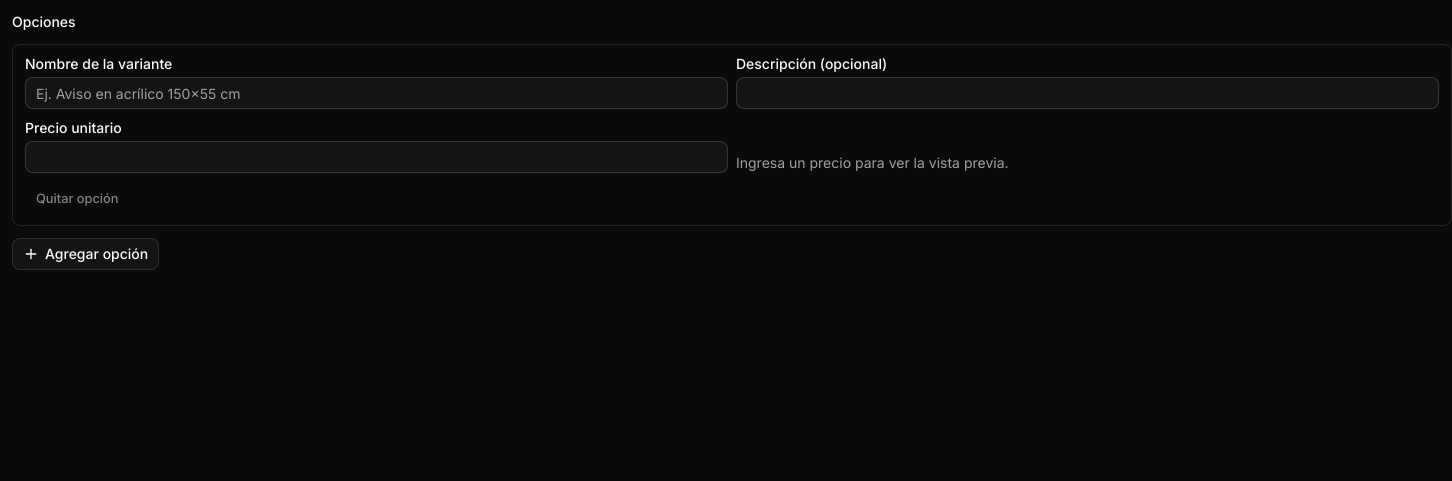
CatalogVariantFields › disables 'Quitar' when it is the only row, and enables it once a second row exists
expect the button "Quitar opción" is disabled: met, box [25,185,130,213]
Click the button "Agregar opción" at x=86, y=254, box [12,238,159,270]
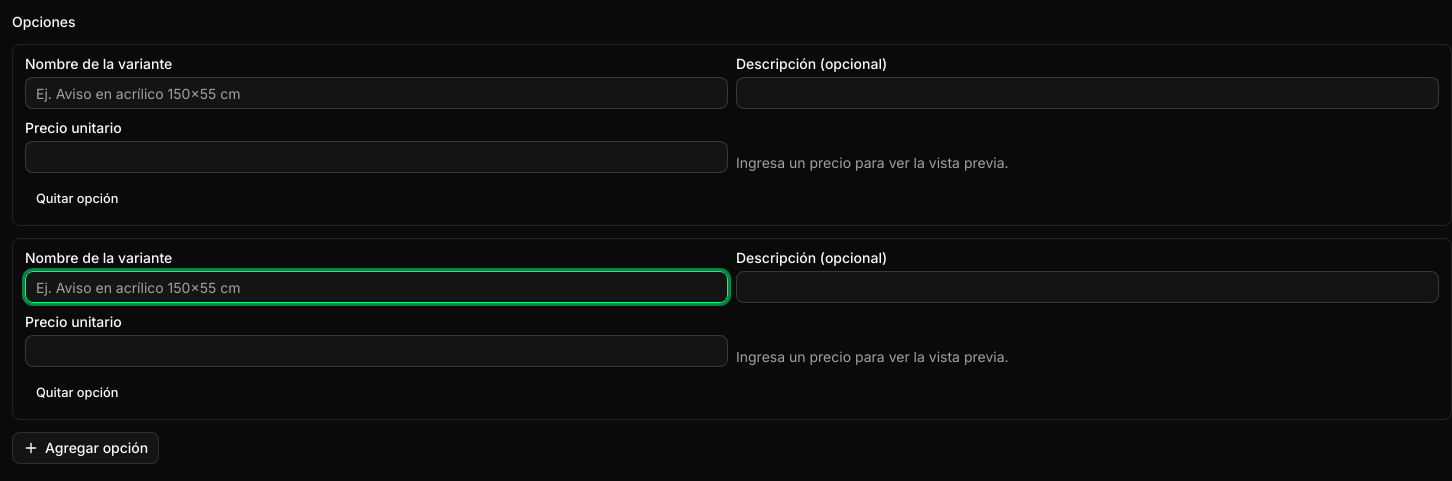
expect the number of buttons "Quitar opción" is 2: met, box [25,185,130,213]; [25,379,130,407]
expect the 1st button "Quitar opción" is enabled: met, box [25,185,130,213]
expect the 2nd button "Quitar opción" is enabled: met, box [25,379,130,407]
